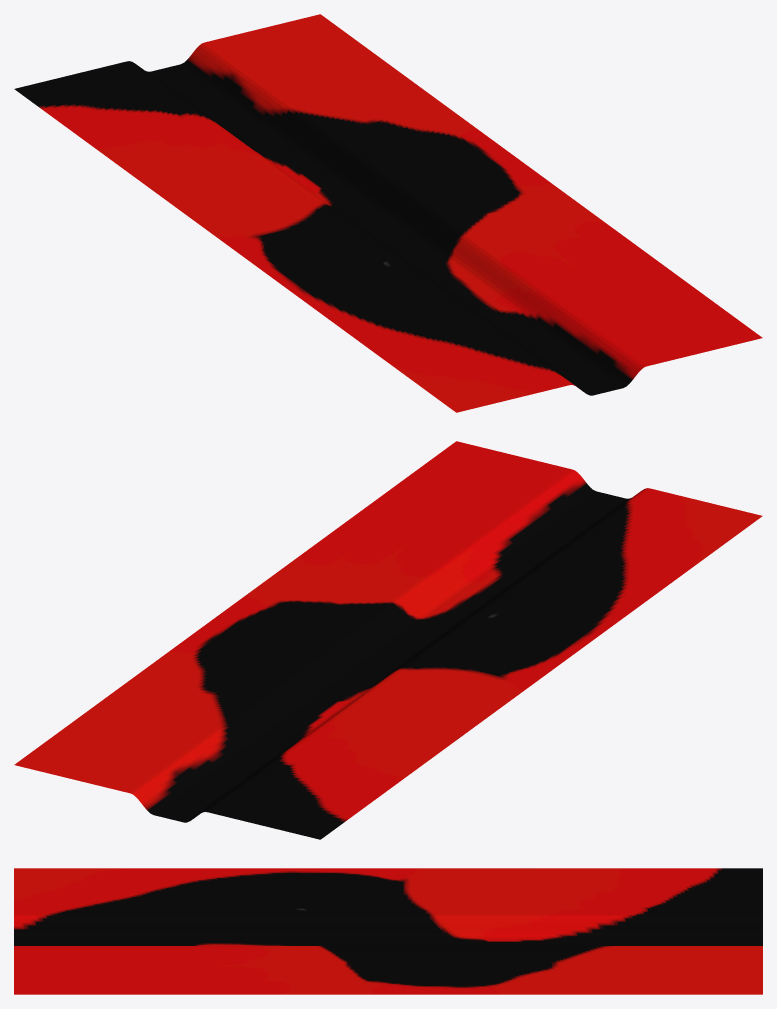
The model's file is Fluvial_Plane_6.fbx.
The picture shows the model from 3 angles, top to bottom: view 1: azimuth 30°, elevation 25°; view 2: azimuth 150°, elevation 25°; view 3: azimuth 270°, elevation 25°; orthographic projection. The views are drawn at different scales.
Parts seen in each view (by area): view 1: Plane_test_6; view 2: Plane_test_6; view 3: Plane_test_6.
Boxes of the visible parts, x1,y1,x2,y2 form: Plane_test_6: (14,14,762,412); Plane_test_6: (14,441,762,839); Plane_test_6: (14,868,762,994).
Bounding box in the file's own units: 8000 × 400 × 20000.
